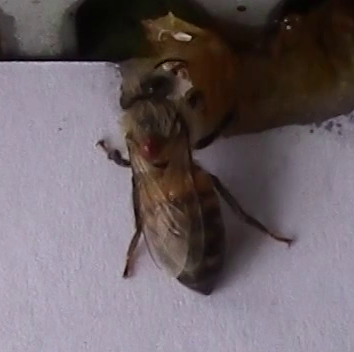Varroa destructor: (138, 131, 163, 161)
